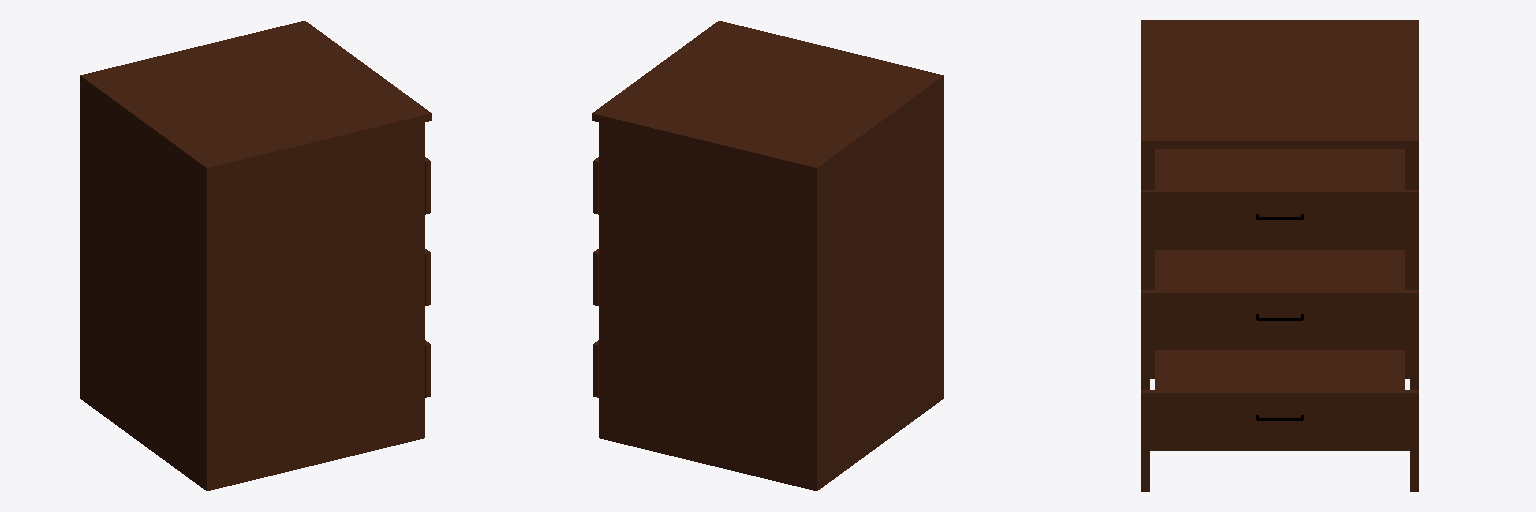
The robot description file, URDF, robot "mk_station":
<robot name="mk_station" version="1.0">
  <joint name="top_drawer_joint" type="prismatic">
    <limit lower="0" upper="0.5" effort="0.00000" velocity="0.00000"/>
    <origin rpy="0.00000 0.00000 0.00000" xyz="0.00000 0.00000 0.66800"/>
    <parent link="body"/>
    <child link="top_drawer"/>
    <axis xyz="1.00000 0.00000 0.00000"/>
  </joint>
  <joint name="middle_drawer_joint" type="prismatic">
    <limit lower="0" upper="0.5" effort="0.00000" velocity="0.00000"/>
    <origin rpy="0.00000 0.00000 0.00000" xyz="0.00000 0.00000 0.42300"/>
    <parent link="body"/>
    <child link="middle_drawer"/>
    <axis xyz="1.00000 0.00000 0.00000"/>
  </joint>
  <joint name="bottom_drawer_joint" type="prismatic">
    <limit lower="0" upper="0.5" effort="0.00000" velocity="0.00000"/>
    <origin rpy="0.00000 0.00000 0.00000" xyz="0.00000 0.00000 0.17800"/>
    <parent link="body"/>
    <child link="bottom_drawer"/>
    <axis xyz="1.00000 0.00000 0.00000"/>
  </joint>
  <link name="body">
    <collision name="body_back_collision">
      <origin rpy="0.00000 0.00000 0.00000" xyz="-0.30500 0.00000 0.42250"/>
      <geometry>
        <box size="0.02000 0.61500 0.84500"/>
      </geometry>
    </collision>
    <visual name="body_back">
      <origin rpy="0.00000 0.00000 0.00000" xyz="-0.30500 0.00000 0.42250"/>
      <material name="gray_wooden"/>
      <geometry>
        <box size="0.02000 0.61500 0.84500"/>
      </geometry>
    </visual>
    <collision name="body_left_collision">
      <origin rpy="0.00000 0.00000 0.00000" xyz="0.00000 -0.29750 0.42250"/>
      <geometry>
        <box size="0.59000 0.02000 0.84500"/>
      </geometry>
    </collision>
    <visual name="body_left">
      <origin rpy="0.00000 0.00000 0.00000" xyz="0.00000 -0.29750 0.42250"/>
      <material name="gray_wooden"/>
      <geometry>
        <box size="0.59000 0.02000 0.84500"/>
      </geometry>
    </visual>
    <collision name="body_right_collision">
      <origin rpy="0.00000 0.00000 0.00000" xyz="0.00000 0.29750 0.42250"/>
      <geometry>
        <box size="0.59000 0.02000 0.84500"/>
      </geometry>
    </collision>
    <visual name="body_right">
      <origin rpy="0.00000 0.00000 0.00000" xyz="0.00000 0.29750 0.42250"/>
      <material name="gray_wooden"/>
      <geometry>
        <box size="0.59000 0.02000 0.84500"/>
      </geometry>
    </visual>
    <collision name="tabletop_collision">
      <origin rpy="0.00000 0.00000 0.00000" xyz="0.00000 0.00000 0.85500"/>
      <geometry>
        <box size="0.63000 0.61500 0.02000"/>
      </geometry>
    </collision>
    <visual name="tabletop">
      <origin rpy="0.00000 0.00000 0.00000" xyz="0.00000 0.00000 0.85500"/>
      <material name="stone"/>
      <geometry>
        <box size="0.63000 0.61500 0.02000"/>
      </geometry>
    </visual>
  </link>
  <link name="top_drawer">
    <visual name="handle0">
      <origin rpy="0.00000 0.00000 0.00000" xyz="0.34250 0.00000 0.02"/>
      <material name="black"/>
      <geometry>
        <box size="0.005000 0.10000 0.00500"/>
      </geometry>
    </visual>
    <visual name="handle1">
      <origin rpy="0.00000 0.00000 0.00000" xyz="0.33250 -0.05000 0.02"/>
      <material name="black"/>
      <geometry>
        <box size="0.020000 0.00500 0.00500"/>
      </geometry>
    </visual>
    <visual name="handle2">
      <origin rpy="0.00000 0.00000 0.00000" xyz="0.33250 0.05000 0.02"/>
      <material name="black"/>
      <geometry>
        <box size="0.020000 0.00500 0.00500"/>
      </geometry>
    </visual>
    <collision name="drawer_front_collision">
      <origin rpy="0.00000 0.00000 0.00000" xyz="0.30500 0.00000 0.0"/>
      <geometry>
        <box size="0.015000 0.61500 0.14000"/>
      </geometry>
    </collision>
    <visual name="drawer_front">
      <origin rpy="0.00000 0.00000 0.00000" xyz="0.30500 0.00000 0.0"/>
      <material name="gray_wooden"/>
      <geometry>
        <box size="0.015000 0.61500 0.14000"/>
      </geometry>
    </visual>
    <collision name="drawer_back_collision">
      <origin rpy="0.00000 0.00000 0.00000" xyz="-0.28500 0.00000 -0.02"/>
      <geometry>
        <box size="0.02000 0.51500 0.10000"/>
      </geometry>
    </collision>
    <visual name="drawer_back">
      <origin rpy="0.00000 0.00000 0.00000" xyz="-0.28500 0.00000 -0.02"/>
      <material name="white_wooden"/>
      <geometry>
        <box size="0.02000 0.51500 0.10000"/>
      </geometry>
    </visual>
    <collision name="drawer_interior_bottom_collision">
      <origin rpy="0.00000 0.00000 0.00000" xyz="0.00000 0.00000 -0.06"/>
      <geometry>
        <box size="0.55000 0.51500 0.02000"/>
      </geometry>
    </collision>
    <visual name="drawer_interior_bottom">
      <origin rpy="0.00000 0.00000 0.00000" xyz="0.00000 0.00000 -0.06"/>
      <material name="white_wooden"/>
      <geometry>
        <box size="0.55000 0.51500 0.02000"/>
      </geometry>
    </visual>
    <collision name="drawer_interior_front_collision">
      <origin rpy="0.00000 0.00000 0.00000" xyz="0.28500 0.00000 -0.02"/>
      <geometry>
        <box size="0.02000 0.51500 0.10000"/>
      </geometry>
    </collision>
    <visual name="drawer_interior_front">
      <origin rpy="0.00000 0.00000 0.00000" xyz="0.28500 0.00000 -0.02"/>
      <material name="white_wooden"/>
      <geometry>
        <box size="0.02000 0.51500 0.10000"/>
      </geometry>
    </visual>
    <collision name="drawer_left_collision">
      <origin rpy="0.00000 0.00000 0.00000" xyz="0.00000 -0.26750 -0.02"/>
      <geometry>
        <box size="0.59000 0.02000 0.10000"/>
      </geometry>
    </collision>
    <visual name="drawer_left">
      <origin rpy="0.00000 0.00000 0.00000" xyz="0.00000 -0.26750 -0.02"/>
      <material name="white_wooden"/>
      <geometry>
        <box size="0.59000 0.02000 0.10000"/>
      </geometry>
    </visual>
    <collision name="drawer_right_collision">
      <origin rpy="0.00000 0.00000 0.00000" xyz="0.00000 0.26750 -0.02"/>
      <geometry>
        <box size="0.59000 0.02000 0.10000"/>
      </geometry>
    </collision>
    <visual name="drawer_right">
      <origin rpy="0.00000 0.00000 0.00000" xyz="0.00000 0.26750 -0.02"/>
      <material name="white_wooden"/>
      <geometry>
        <box size="0.59000 0.02000 0.10000"/>
      </geometry>
    </visual>
  </link>
  <link name="middle_drawer">
    <visual name="handle0">
      <origin rpy="0.00000 0.00000 0.00000" xyz="0.34250 0.00000 0.02"/>
      <material name="black"/>
      <geometry>
        <box size="0.005000 0.10000 0.00500"/>
      </geometry>
    </visual>
    <visual name="handle1">
      <origin rpy="0.00000 0.00000 0.00000" xyz="0.33250 -0.05000 0.02"/>
      <material name="black"/>
      <geometry>
        <box size="0.020000 0.00500 0.00500"/>
      </geometry>
    </visual>
    <visual name="handle2">
      <origin rpy="0.00000 0.00000 0.00000" xyz="0.33250 0.05000 0.02"/>
      <material name="black"/>
      <geometry>
        <box size="0.020000 0.00500 0.00500"/>
      </geometry>
    </visual>
    <collision name="drawer_front_collision">
      <origin rpy="0.00000 0.00000 0.00000" xyz="0.30500 0.00000 0.0"/>
      <geometry>
        <box size="0.015000 0.61500 0.14000"/>
      </geometry>
    </collision>
    <visual name="drawer_front">
      <origin rpy="0.00000 0.00000 0.00000" xyz="0.30500 0.00000 0.0"/>
      <material name="gray_wooden"/>
      <geometry>
        <box size="0.015000 0.61500 0.14000"/>
      </geometry>
    </visual>
    <collision name="drawer_back_collision">
      <origin rpy="0.00000 0.00000 0.00000" xyz="-0.28500 0.00000 -0.02"/>
      <geometry>
        <box size="0.02000 0.51500 0.10000"/>
      </geometry>
    </collision>
    <visual name="drawer_back">
      <origin rpy="0.00000 0.00000 0.00000" xyz="-0.28500 0.00000 -0.02"/>
      <material name="white_wooden"/>
      <geometry>
        <box size="0.02000 0.51500 0.10000"/>
      </geometry>
    </visual>
    <collision name="drawer_interior_bottom_collision">
      <origin rpy="0.00000 0.00000 0.00000" xyz="0.00000 0.00000 -0.06"/>
      <geometry>
        <box size="0.55000 0.51500 0.02000"/>
      </geometry>
    </collision>
    <visual name="drawer_interior_bottom">
      <origin rpy="0.00000 0.00000 0.00000" xyz="0.00000 0.00000 -0.06"/>
      <material name="white_wooden"/>
      <geometry>
        <box size="0.55000 0.51500 0.02000"/>
      </geometry>
    </visual>
    <collision name="drawer_interior_front_collision">
      <origin rpy="0.00000 0.00000 0.00000" xyz="0.28500 0.00000 -0.02"/>
      <geometry>
        <box size="0.02000 0.51500 0.10000"/>
      </geometry>
    </collision>
    <visual name="drawer_interior_front">
      <origin rpy="0.00000 0.00000 0.00000" xyz="0.28500 0.00000 -0.02"/>
      <material name="white_wooden"/>
      <geometry>
        <box size="0.02000 0.51500 0.10000"/>
      </geometry>
    </visual>
    <collision name="drawer_left_collision">
      <origin rpy="0.00000 0.00000 0.00000" xyz="0.00000 -0.26750 -0.02"/>
      <geometry>
        <box size="0.59000 0.02000 0.10000"/>
      </geometry>
    </collision>
    <visual name="drawer_left">
      <origin rpy="0.00000 0.00000 0.00000" xyz="0.00000 -0.26750 -0.02"/>
      <material name="white_wooden"/>
      <geometry>
        <box size="0.59000 0.02000 0.10000"/>
      </geometry>
    </visual>
    <collision name="drawer_right_collision">
      <origin rpy="0.00000 0.00000 0.00000" xyz="0.00000 0.26750 -0.02"/>
      <geometry>
        <box size="0.59000 0.02000 0.10000"/>
      </geometry>
    </collision>
    <visual name="drawer_right">
      <origin rpy="0.00000 0.00000 0.00000" xyz="0.00000 0.26750 -0.02"/>
      <material name="white_wooden"/>
      <geometry>
        <box size="0.59000 0.02000 0.10000"/>
      </geometry>
    </visual>
  </link>
  <link name="bottom_drawer">
    <visual name="handle0">
      <origin rpy="0.00000 0.00000 0.00000" xyz="0.34250 0.00000 0.02"/>
      <material name="black"/>
      <geometry>
        <box size="0.005000 0.10000 0.00500"/>
      </geometry>
    </visual>
    <visual name="handle1">
      <origin rpy="0.00000 0.00000 0.00000" xyz="0.33250 -0.05000 0.02"/>
      <material name="black"/>
      <geometry>
        <box size="0.020000 0.00500 0.00500"/>
      </geometry>
    </visual>
    <visual name="handle2">
      <origin rpy="0.00000 0.00000 0.00000" xyz="0.33250 0.05000 0.02"/>
      <material name="black"/>
      <geometry>
        <box size="0.020000 0.00500 0.00500"/>
      </geometry>
    </visual>
    <collision name="drawer_front_collision">
      <origin rpy="0.00000 0.00000 0.00000" xyz="0.30500 0.00000 0.0"/>
      <geometry>
        <box size="0.015000 0.61500 0.14000"/>
      </geometry>
    </collision>
    <visual name="drawer_front">
      <origin rpy="0.00000 0.00000 0.00000" xyz="0.30500 0.00000 0.0"/>
      <material name="gray_wooden"/>
      <geometry>
        <box size="0.015000 0.61500 0.14000"/>
      </geometry>
    </visual>
    <collision name="drawer_back_collision">
      <origin rpy="0.00000 0.00000 0.00000" xyz="-0.28500 0.00000 -0.02"/>
      <geometry>
        <box size="0.02000 0.51500 0.10000"/>
      </geometry>
    </collision>
    <visual name="drawer_back">
      <origin rpy="0.00000 0.00000 0.00000" xyz="-0.28500 0.00000 -0.02"/>
      <material name="white_wooden"/>
      <geometry>
        <box size="0.02000 0.51500 0.10000"/>
      </geometry>
    </visual>
    <collision name="drawer_interior_bottom_collision">
      <origin rpy="0.00000 0.00000 0.00000" xyz="0.00000 0.00000 -0.06"/>
      <geometry>
        <box size="0.55000 0.51500 0.02000"/>
      </geometry>
    </collision>
    <visual name="drawer_interior_bottom">
      <origin rpy="0.00000 0.00000 0.00000" xyz="0.00000 0.00000 -0.06"/>
      <material name="white_wooden"/>
      <geometry>
        <box size="0.55000 0.51500 0.02000"/>
      </geometry>
    </visual>
    <collision name="drawer_interior_front_collision">
      <origin rpy="0.00000 0.00000 0.00000" xyz="0.28500 0.00000 -0.02"/>
      <geometry>
        <box size="0.02000 0.51500 0.10000"/>
      </geometry>
    </collision>
    <visual name="drawer_interior_front">
      <origin rpy="0.00000 0.00000 0.00000" xyz="0.28500 0.00000 -0.02"/>
      <material name="white_wooden"/>
      <geometry>
        <box size="0.02000 0.51500 0.10000"/>
      </geometry>
    </visual>
    <collision name="drawer_left_collision">
      <origin rpy="0.00000 0.00000 0.00000" xyz="0.00000 -0.26750 -0.02"/>
      <geometry>
        <box size="0.59000 0.02000 0.10000"/>
      </geometry>
    </collision>
    <visual name="drawer_left">
      <origin rpy="0.00000 0.00000 0.00000" xyz="0.00000 -0.26750 -0.02"/>
      <material name="white_wooden"/>
      <geometry>
        <box size="0.59000 0.02000 0.10000"/>
      </geometry>
    </visual>
    <collision name="drawer_right_collision">
      <origin rpy="0.00000 0.00000 0.00000" xyz="0.00000 0.26750 -0.02"/>
      <geometry>
        <box size="0.59000 0.02000 0.10000"/>
      </geometry>
    </collision>
    <visual name="drawer_right">
      <origin rpy="0.00000 0.00000 0.00000" xyz="0.00000 0.26750 -0.02"/>
      <material name="white_wooden"/>
      <geometry>
        <box size="0.59000 0.02000 0.10000"/>
      </geometry>
    </visual>
  </link>
  <material name="gray_wooden">
    <color rgba="0.325 0.187 0.1166 1.00000"/>
  </material>
  <material name="stone">
    <color rgba="0.325 0.187 0.1166 1.00000"/>
  </material>
  <material name="stone2">
    <color rgba="0.5174 0.325 0.17677 1.00000"/>
  </material>
  <material name="white_wooden">
    <color rgba="0.325 0.187 0.1166 1.00000"/>
  </material>
  <material name="black">
    <color rgba="0.01266 0.00226 0.0005 1.00000"/>
  </material>
</robot>

--- Render facts (derived) ---
Views: 3 orthographic renders of the robot side by side, from view 1: azimuth 30°, elevation 25°; view 2: azimuth 150°, elevation 25°; view 3: azimuth 270°, elevation 25°.
Model mk_station with 4 links and 3 joints (3 prismatic), rooted at body, posed all joints at 0.
Links seen in each view (by area): view 1: body; view 2: body; view 3: body, bottom_drawer, top_drawer, middle_drawer.
Boxes of the visible links, x1,y1,x2,y2 form: body: (80,21,431,490); body: (592,21,943,490); body: (1141,20,1418,491); bottom_drawer: (1141,350,1418,450); top_drawer: (1141,149,1418,249); middle_drawer: (1141,250,1418,349).
Size in the robot's own frame: 0.66 by 0.615 by 0.865 metres.
Geometry: primitives only (box / cylinder / sphere), no mesh files.